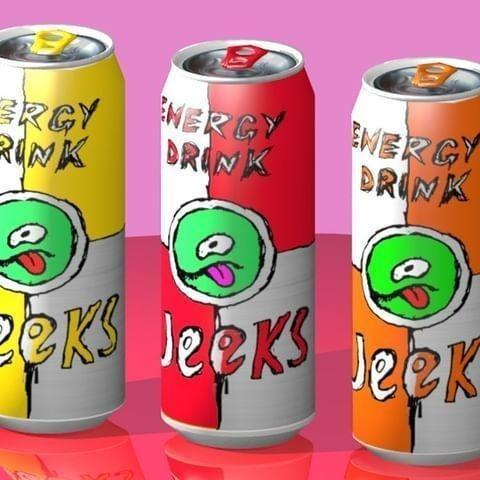tin can: (157, 35, 324, 448), (344, 53, 480, 472), (1, 19, 126, 436)
